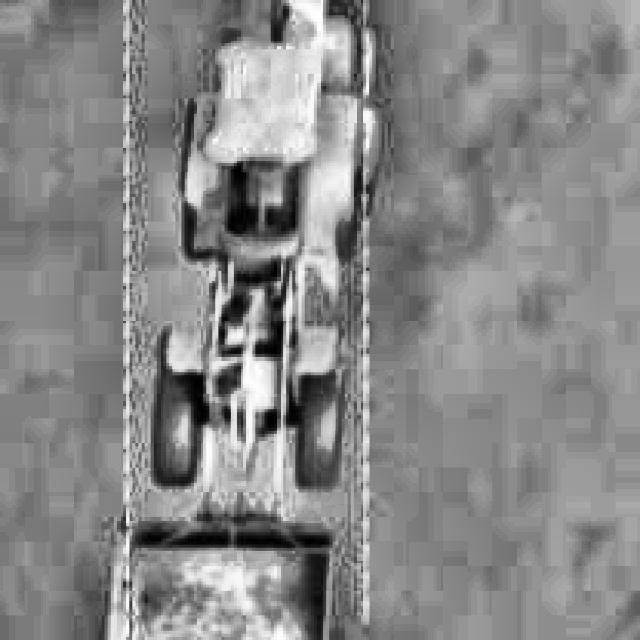buldozerpayloadergrader: (132, 0, 360, 640)
